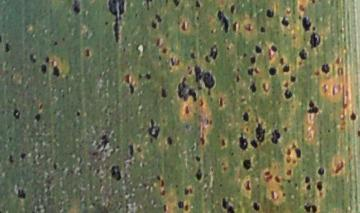tarspot: (107, 1, 126, 43), (193, 63, 216, 96), (177, 76, 197, 102), (216, 9, 230, 34), (146, 119, 162, 139), (306, 99, 319, 116), (309, 32, 322, 49), (238, 131, 249, 151), (255, 122, 266, 142), (110, 164, 122, 182), (333, 159, 345, 174), (270, 129, 281, 145), (301, 16, 312, 32), (209, 44, 219, 61), (71, 1, 83, 15), (297, 48, 308, 61), (303, 203, 317, 213), (100, 134, 110, 148), (262, 170, 273, 182), (242, 158, 252, 171), (260, 82, 270, 95), (194, 168, 203, 182), (247, 82, 258, 93), (293, 147, 304, 158), (296, 3, 307, 14), (265, 8, 275, 20), (175, 199, 185, 211), (127, 142, 135, 157), (241, 22, 253, 32), (52, 65, 61, 78), (167, 56, 176, 69), (315, 180, 325, 191), (280, 16, 290, 27), (180, 21, 189, 33), (220, 197, 228, 210), (216, 95, 224, 108), (231, 20, 239, 33), (283, 89, 293, 99), (281, 64, 291, 74), (12, 109, 22, 119), (321, 63, 330, 74), (17, 188, 26, 199), (30, 52, 38, 64), (160, 87, 167, 100), (244, 178, 251, 191), (249, 139, 258, 149), (268, 66, 277, 76), (144, 72, 153, 82), (193, 154, 203, 163), (154, 12, 162, 23), (242, 111, 250, 122), (219, 137, 226, 149), (349, 112, 358, 121), (160, 46, 169, 55), (145, 1, 153, 11), (317, 166, 325, 176), (303, 176, 313, 184), (183, 105, 191, 115), (128, 82, 134, 95), (40, 63, 47, 74), (4, 42, 10, 54), (33, 113, 41, 122), (288, 75, 297, 83), (229, 2, 235, 14), (254, 45, 262, 54), (166, 136, 174, 145), (43, 54, 51, 63), (124, 72, 130, 84), (273, 174, 281, 183), (284, 148, 293, 156), (283, 156, 291, 165), (252, 201, 259, 211), (226, 206, 236, 213), (258, 26, 268, 33), (84, 48, 91, 58), (161, 203, 168, 213), (149, 21, 157, 29), (249, 56, 257, 64), (305, 183, 313, 191), (246, 67, 253, 76), (189, 51, 196, 60), (199, 136, 206, 145), (285, 177, 292, 186), (197, 99, 204, 108), (183, 186, 189, 196), (194, 1, 202, 8), (270, 45, 278, 52), (19, 151, 26, 159), (8, 154, 15, 162), (187, 69, 194, 77), (241, 51, 248, 59), (285, 169, 293, 176), (136, 72, 143, 80), (90, 150, 98, 157), (52, 160, 57, 171), (172, 1, 181, 7), (279, 56, 285, 65), (159, 179, 165, 187), (160, 188, 166, 196), (282, 125, 288, 133), (60, 36, 68, 42), (209, 27, 215, 35), (235, 74, 240, 83), (75, 110, 81, 117), (154, 174, 161, 180), (52, 40, 59, 46), (326, 127, 332, 134), (356, 129, 360, 139), (103, 20, 109, 26), (194, 15, 200, 21), (184, 204, 189, 211), (185, 64, 190, 70), (310, 1, 316, 5)
